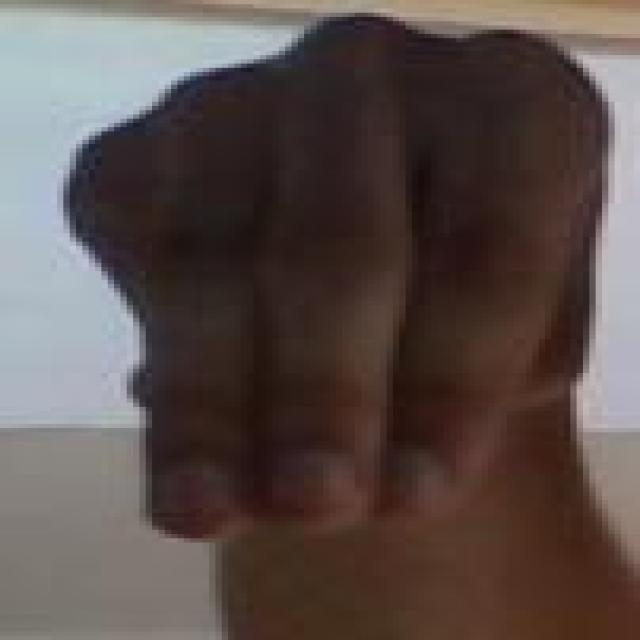M: (19, 2, 612, 574)
